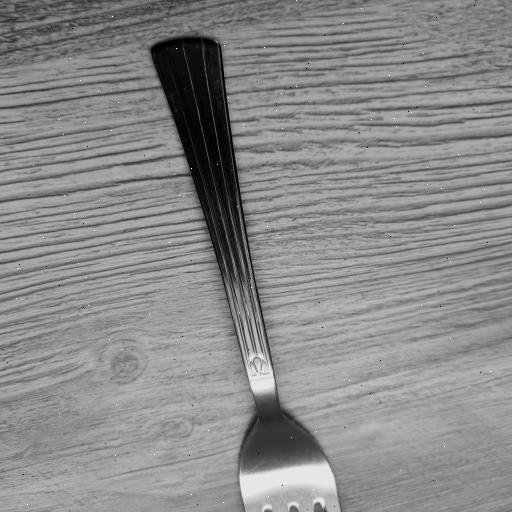fork: (143, 41, 345, 512)
